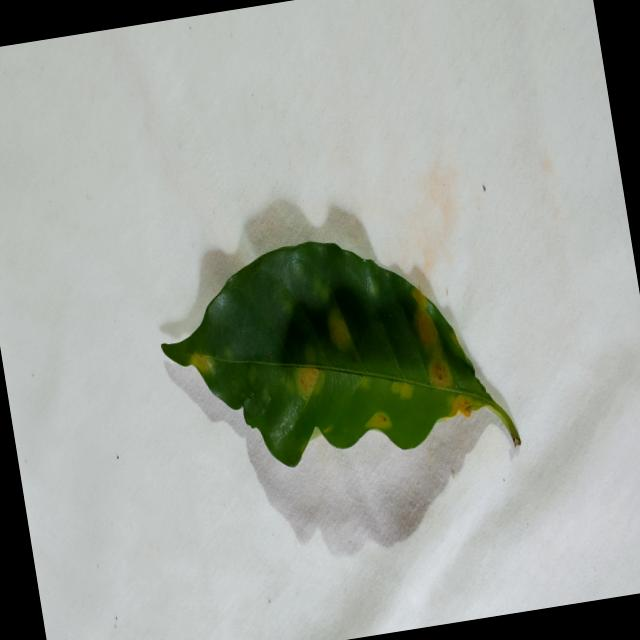KaratDaunKopi: (328, 309, 352, 351), (416, 309, 438, 346), (297, 368, 319, 398), (430, 360, 453, 387), (366, 412, 392, 430), (451, 396, 472, 418), (192, 354, 213, 374), (392, 383, 413, 399), (412, 288, 426, 309)
